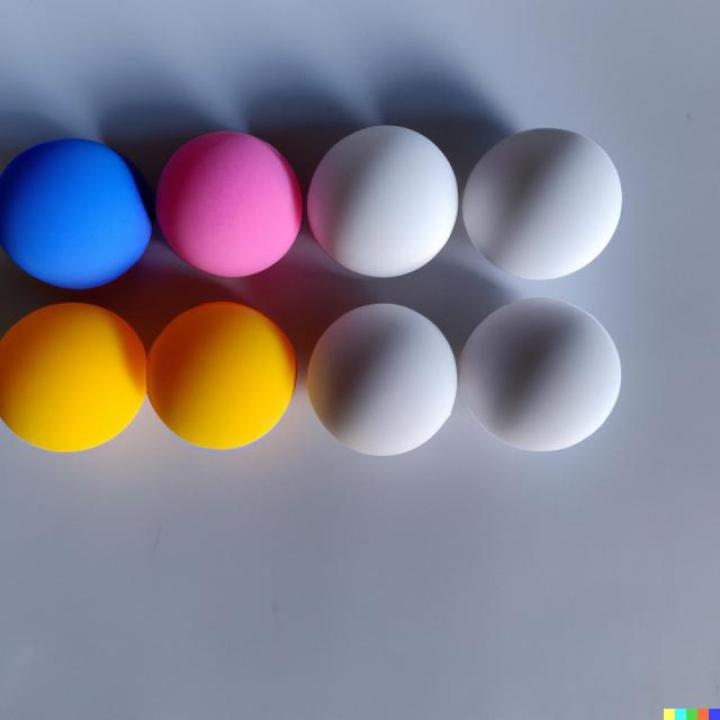orange: (149, 300, 299, 452), (0, 299, 148, 451)
white: (462, 296, 624, 451), (460, 126, 623, 278), (304, 302, 458, 456), (306, 126, 458, 278)
